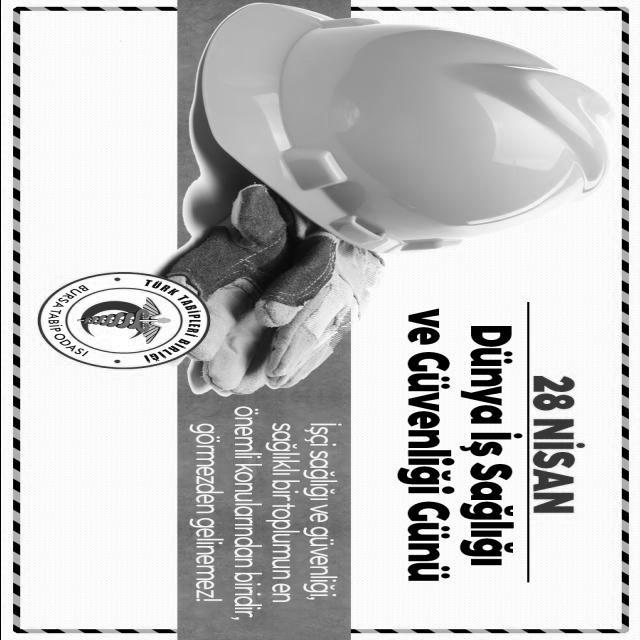construction helmet: (195, 1, 612, 254)
